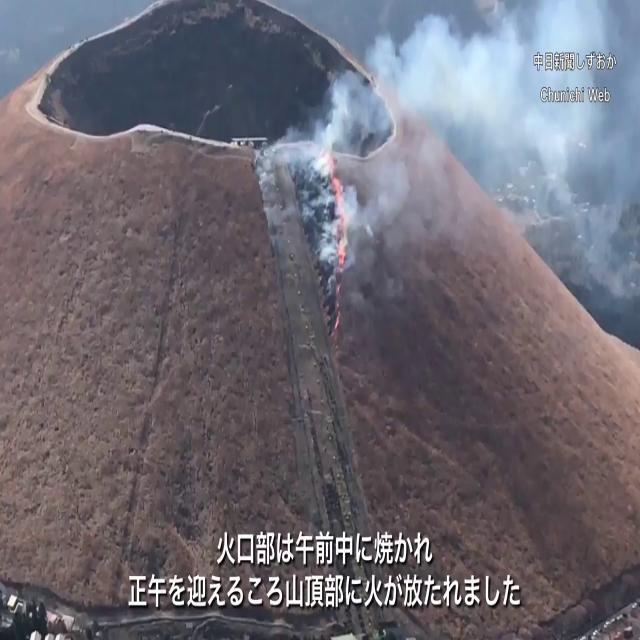Smoke: (266, 2, 630, 254)
